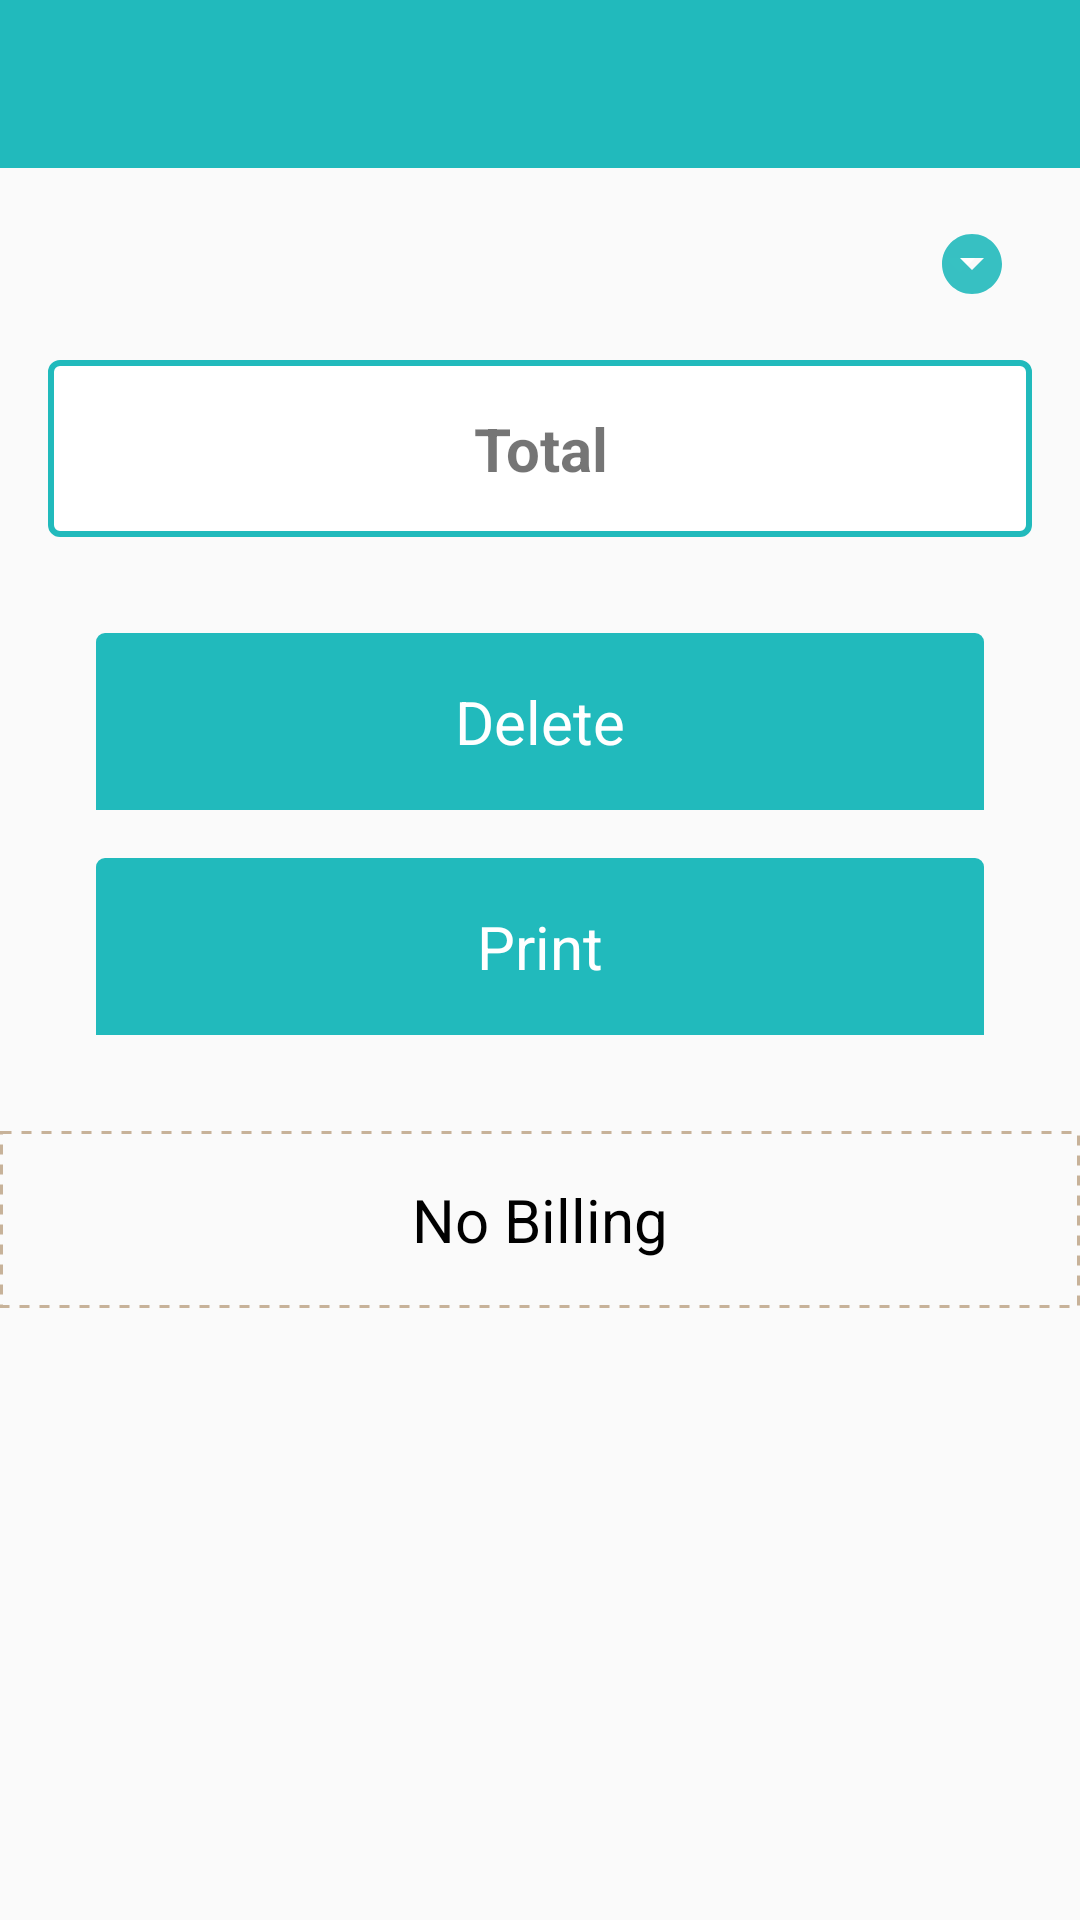

Icons on this 1080 × 1920 Android screen, each with its box as {"x1": x1, "y1": y1, "x2": x2, "y2": y2}:
arrow: {"x1": 942, "y1": 234, "x2": 1002, "y2": 294}
